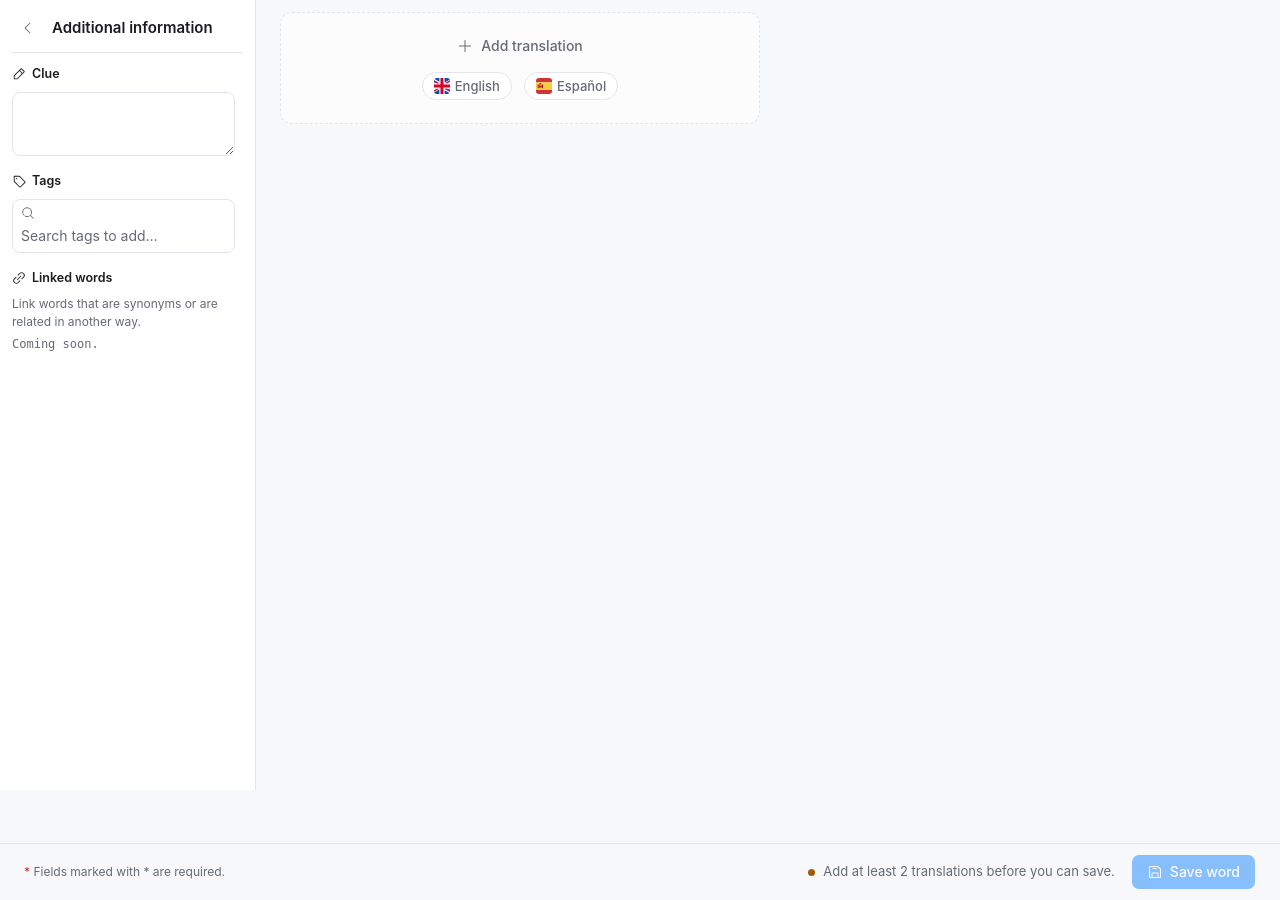
WordForm — create mode › explains in the bottom bar why Save is disabled, and shows nothing once it is enabled
Expected: the text "Fields marked with * are required." is shown, [33,864,225,879]
Expected: the message reads "Add at least 2 translations before you can save.", [823,863,1115,879]
Click the button "English". click: (467, 86)
box: [422,72,512,100]
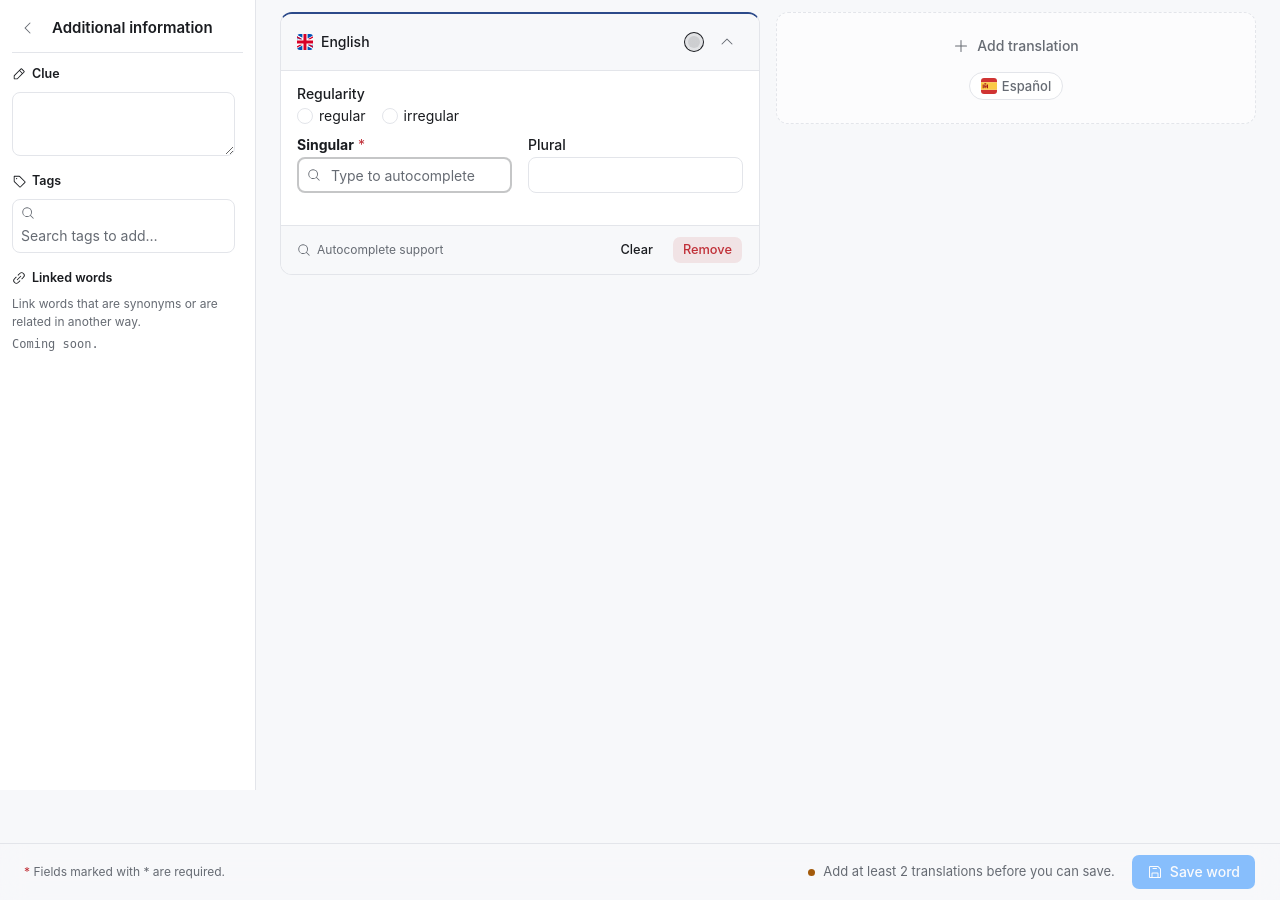
Expected: the message reads "Add at least 2 translations before you can save.", [823,863,1115,879]
Click the button "Español". click: (1016, 86)
box: [969,72,1063,100]
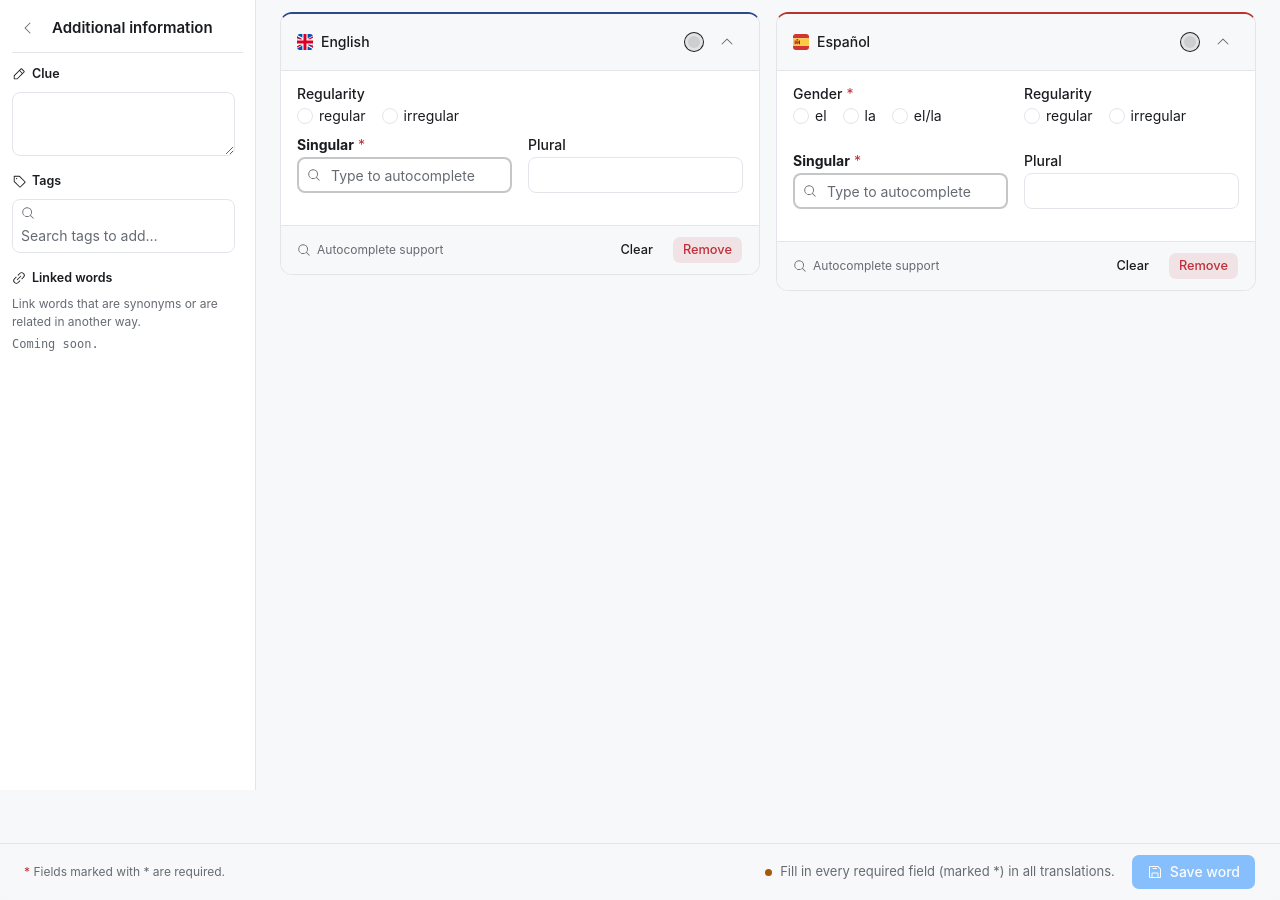
Result: the message reads "Fill in every required field (marked *) in all translations." at [780,863,1115,879]
Type "House" into the 1st dropdown labelled "Singular". click: (404, 175)
box: [297,157,512,193]
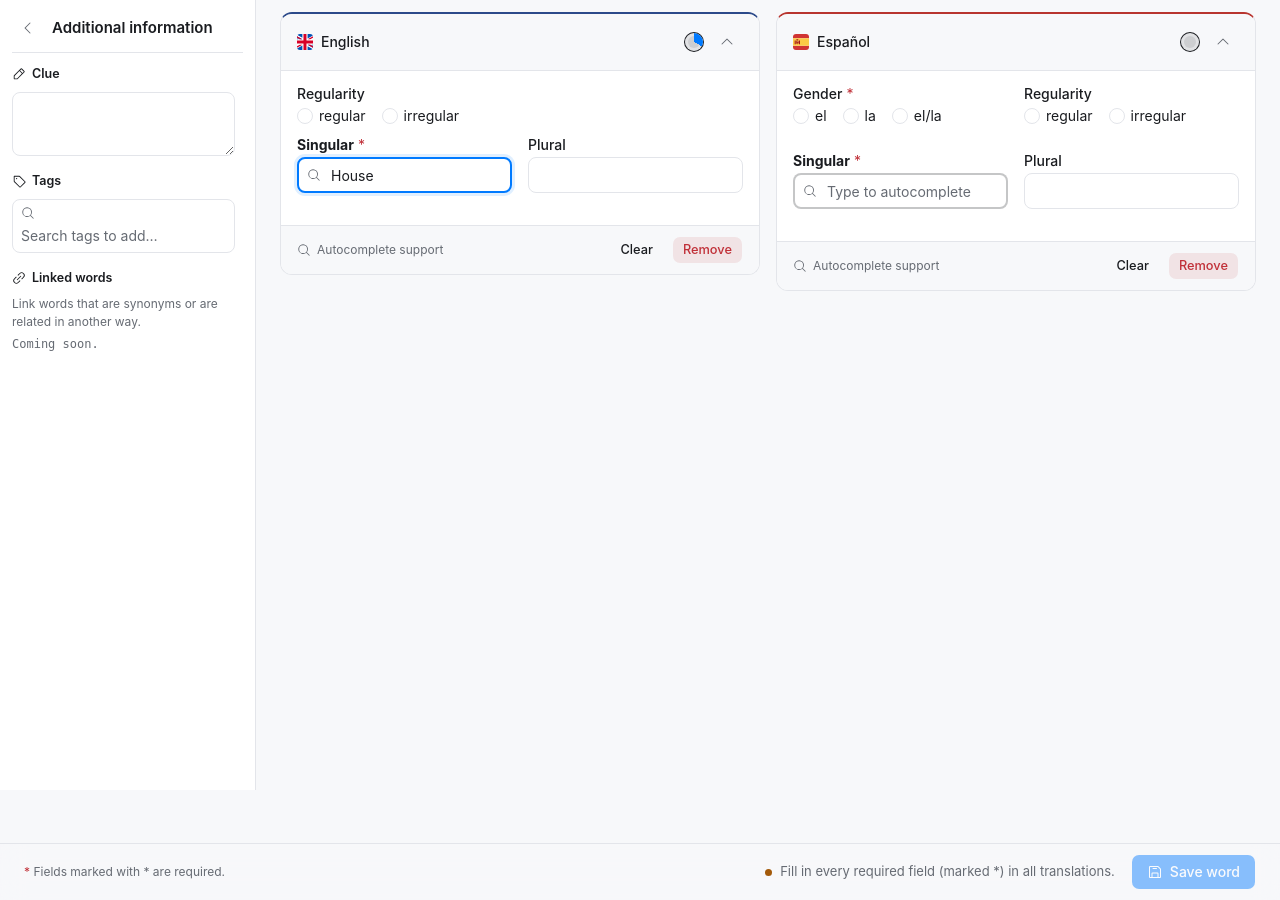
Type "Casa" into the dropdown labelled "Singular" below "el/la". click: (900, 191)
box: [793,173,1008,209]
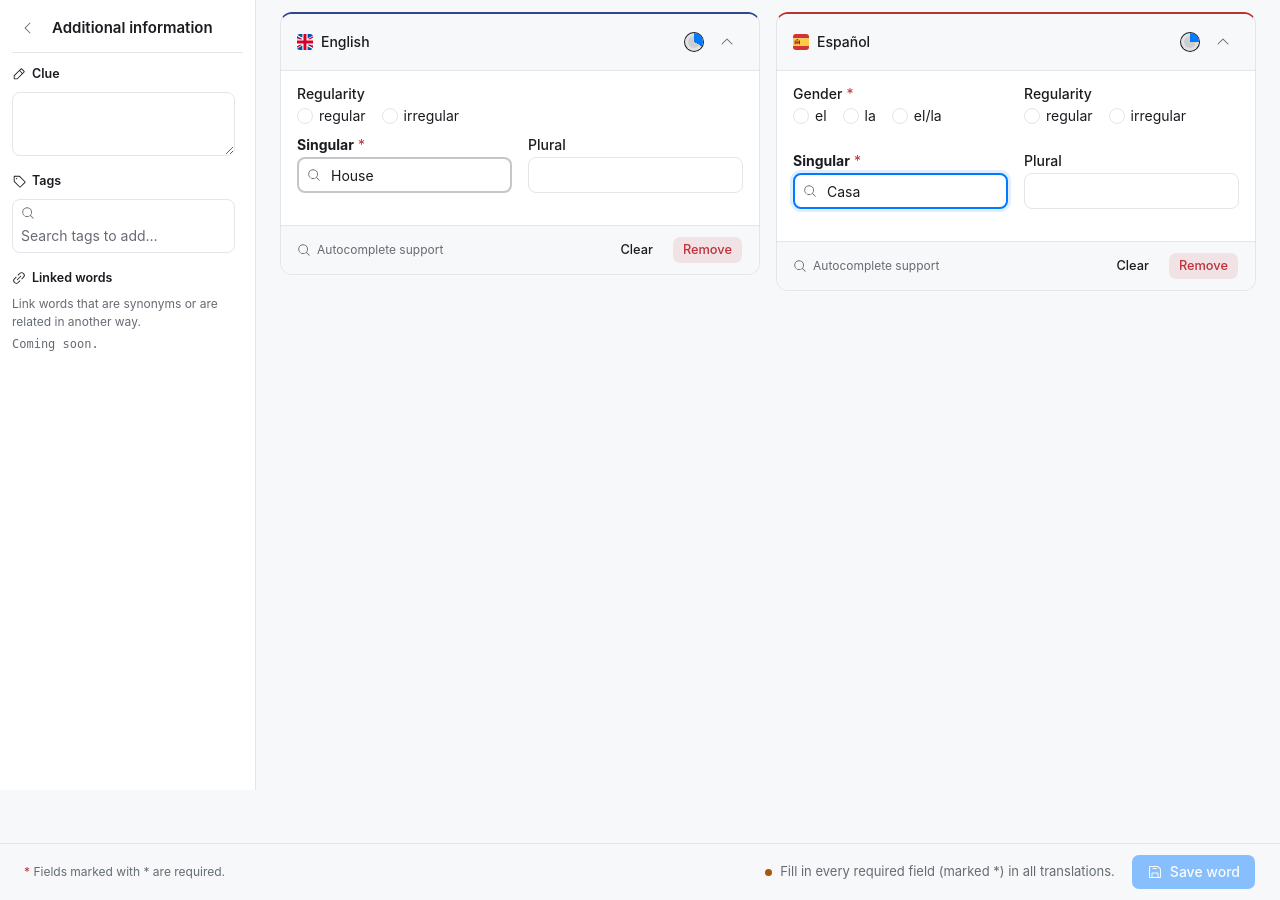
Click the 3rd radio button named "el". click: (801, 116)
box: [793,108,809,124]
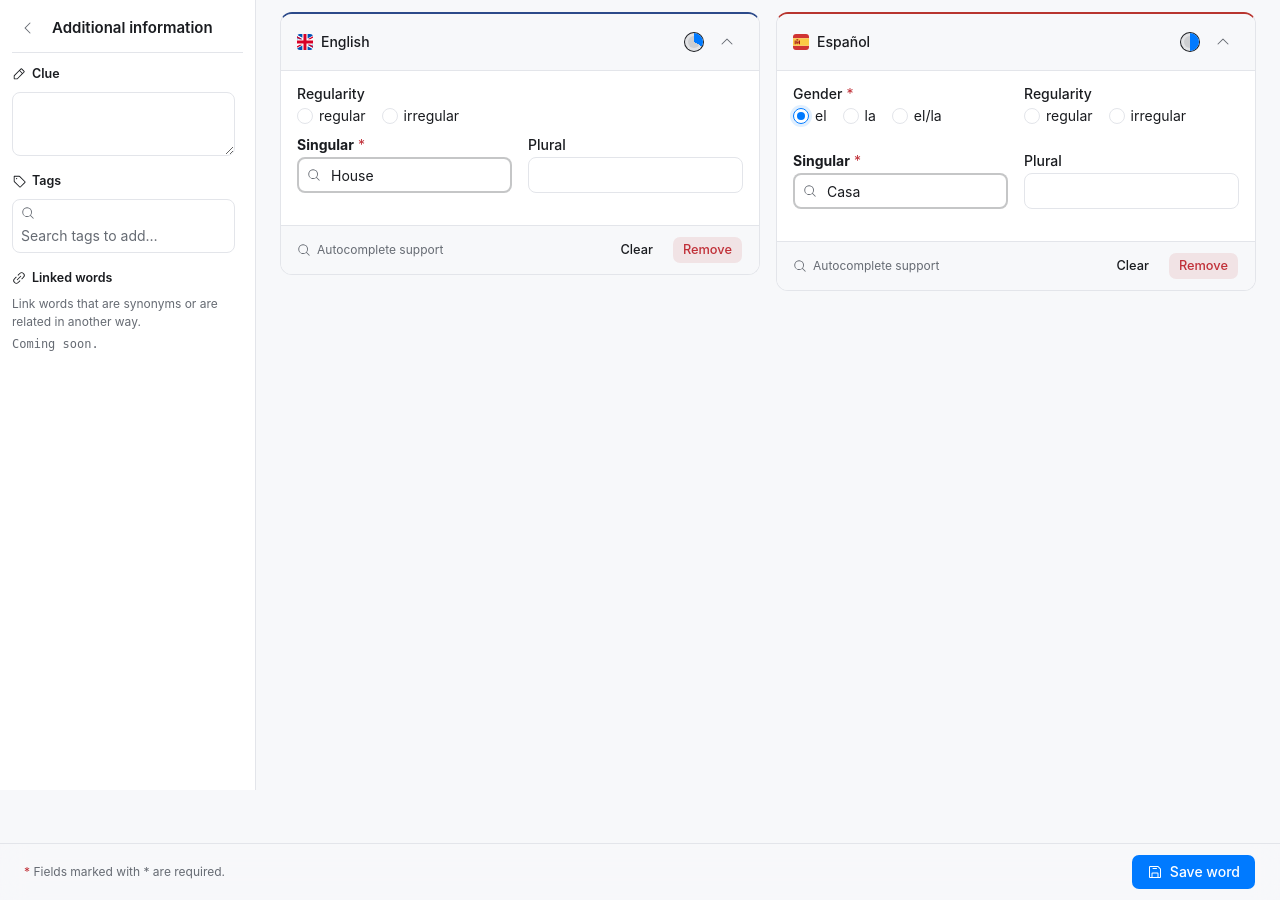
Result: the message "Fill in every required field (marked *) in all translations." is gone
Result: the button "Save word" is enabled at [1131,854,1256,890]
